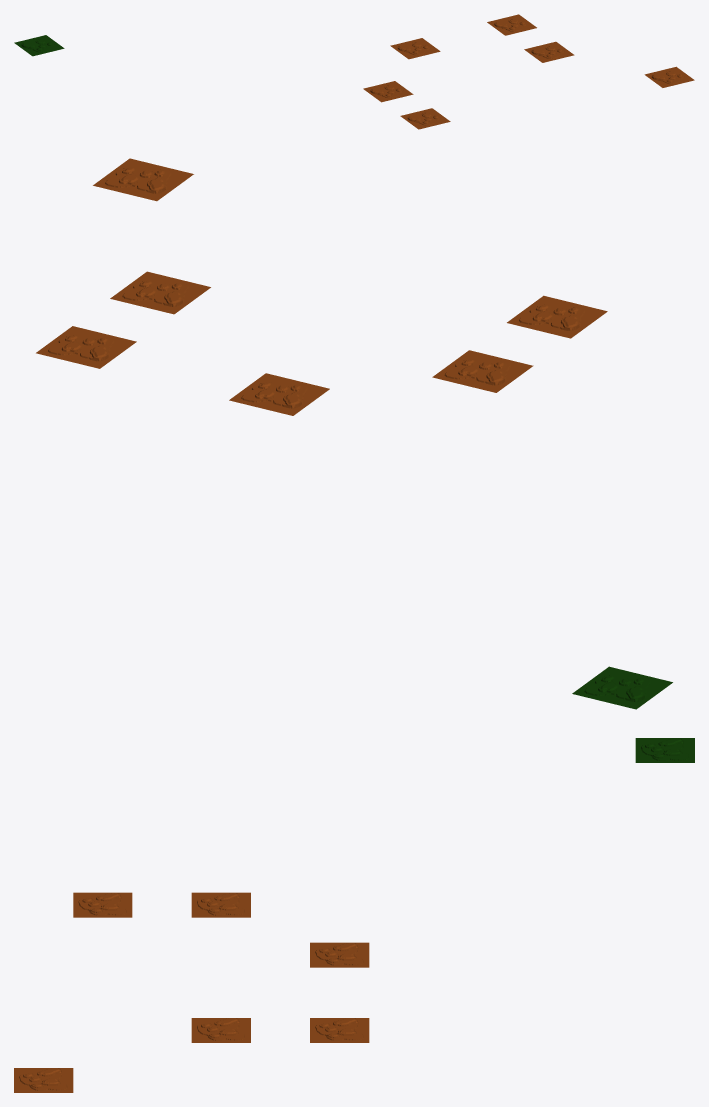
Rendered from Terrain_Part_Plane_6.glb.
The picture shows the model from 3 angles, top to bottom: view 1: azimuth 30°, elevation 25°; view 2: azimuth 150°, elevation 25°; view 3: azimuth 270°, elevation 25°; orthographic projection. The views are drawn at different scales.
Visible parts, largest first — view 1: Terrain_Part_Plane_6.006; view 2: Terrain_Part_Plane_6.006; view 3: Terrain_Part_Plane_6.006.
Boxes of the visible parts, x1,y1,x2,y2 form: Terrain_Part_Plane_6.006: (14, 14, 694, 129); Terrain_Part_Plane_6.006: (36, 158, 672, 709); Terrain_Part_Plane_6.006: (14, 738, 694, 1092).
Bounding box in the file's own units: 290 × 4.1 × 230.
